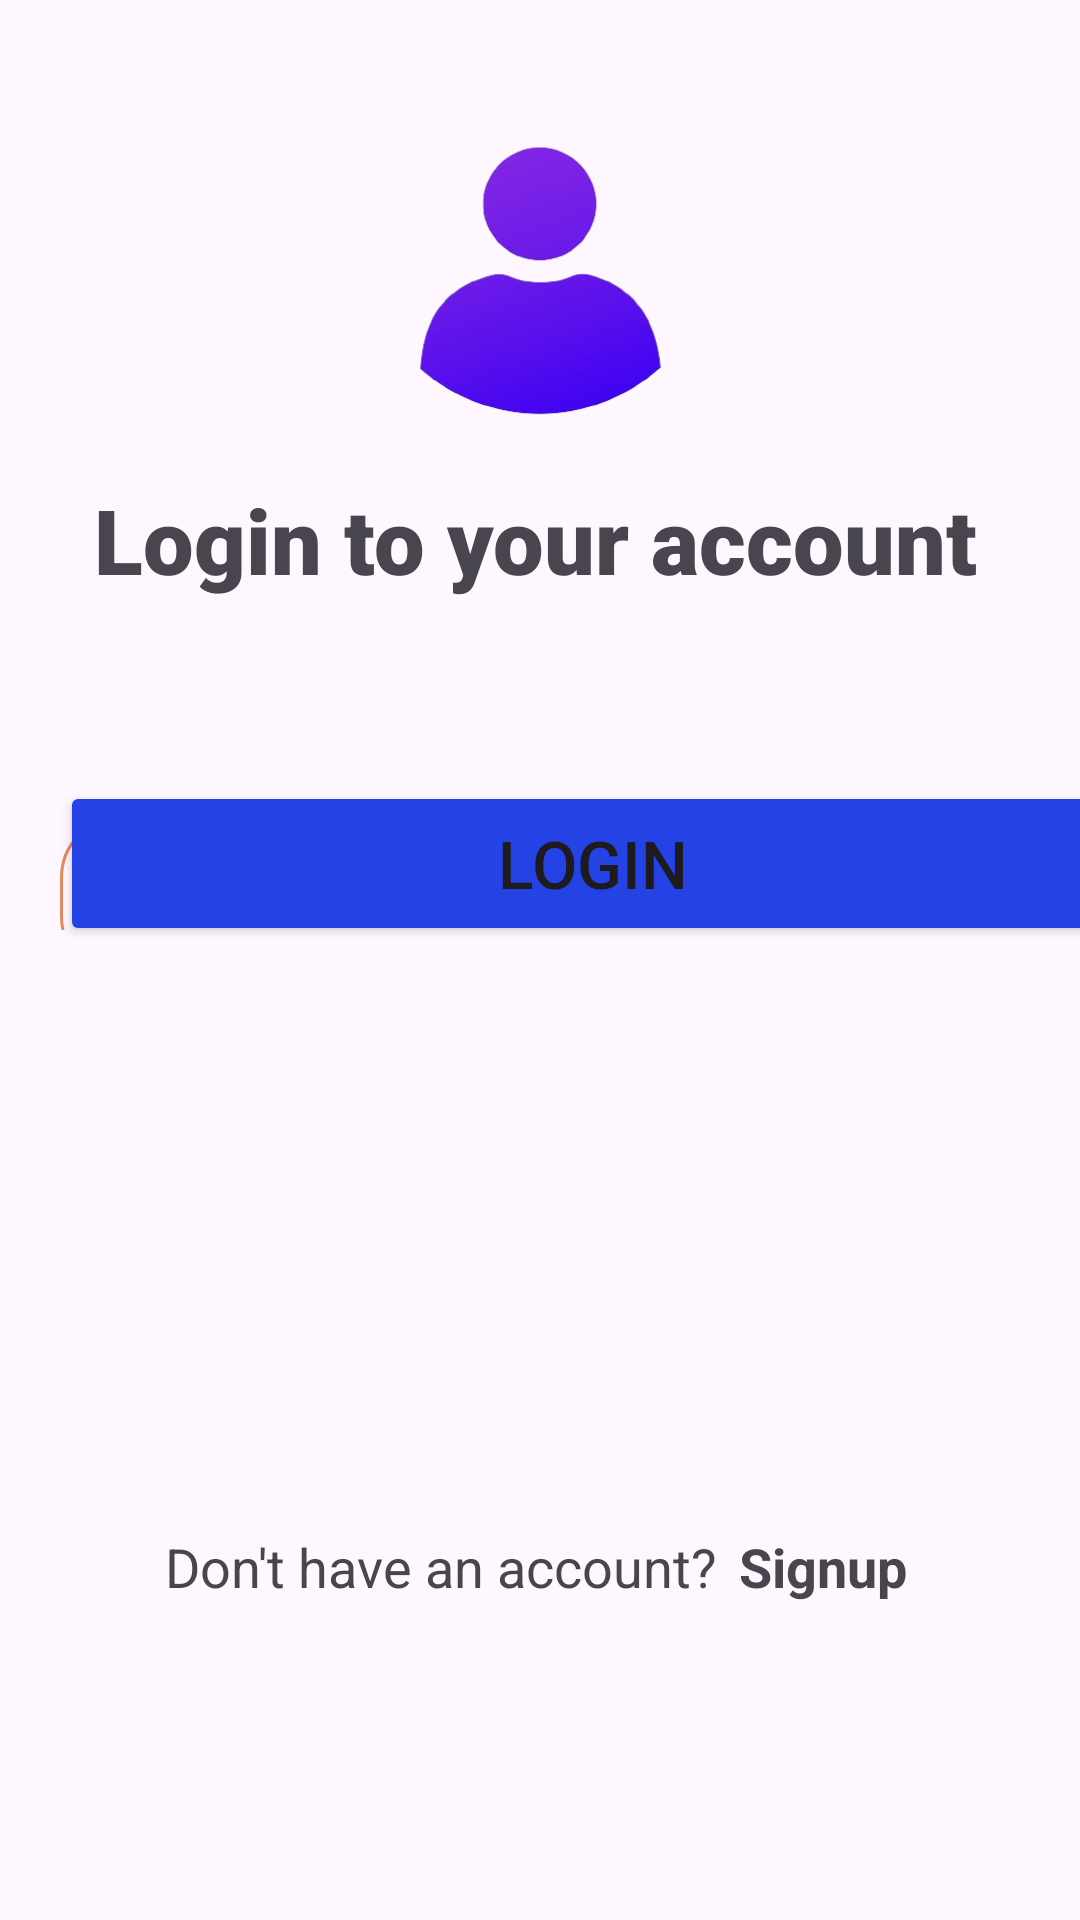

Where to tap for icons on this 1080 × 1920 app screen, as (x=x, y=y):
user login: (x=540, y=281)
